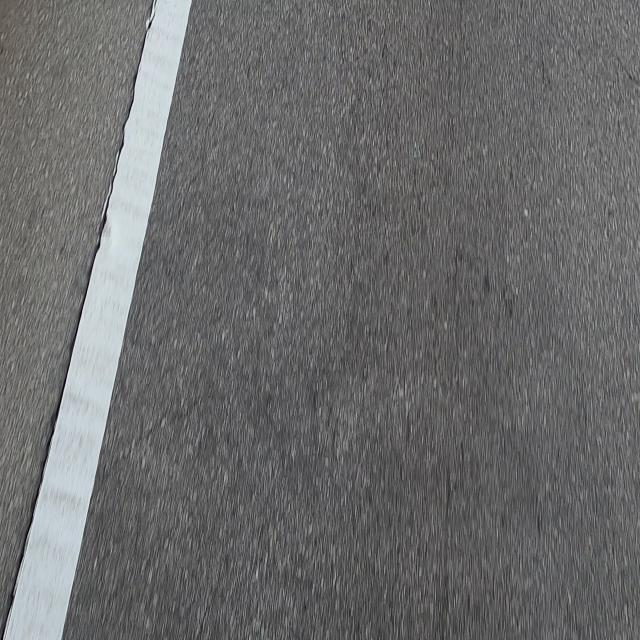Retak-Memanjang: (2, 0, 160, 640)
